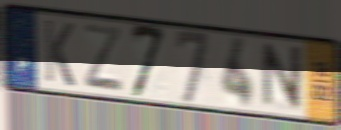4: (218, 34, 257, 112)
7: (173, 27, 211, 107), (130, 21, 168, 101)
K: (42, 17, 77, 90)
N: (260, 42, 304, 114)
Z: (82, 21, 126, 95)
